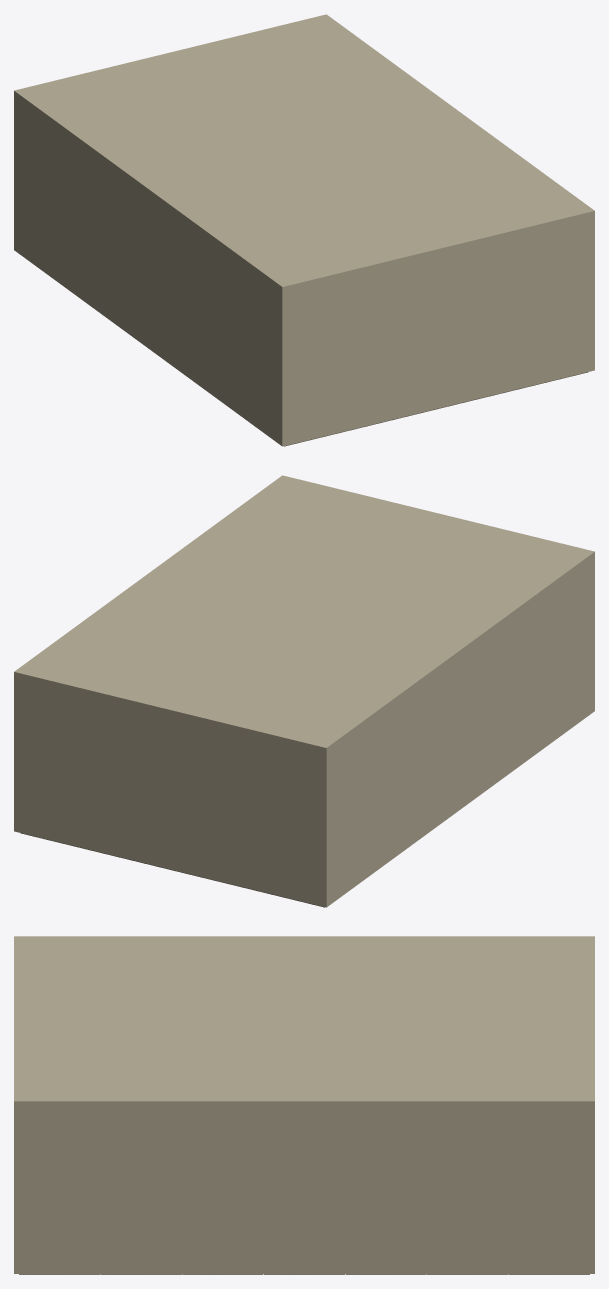
File: board-room.glb
3 renders of one model, top to bottom at view 1: azimuth 30°, elevation 25°; view 2: azimuth 150°, elevation 25°; view 3: azimuth 270°, elevation 25°, orthographic. The views are drawn at different scales.
Parts seen in each view (by area): view 1: Ceiling; view 2: Ceiling; view 3: Ceiling, Floor board.
Part boxes in pixels (bbox=[...]): Ceiling: bbox=[14, 14, 594, 446]; Ceiling: bbox=[14, 475, 594, 907]; Ceiling: bbox=[14, 936, 594, 1273]; Floor board: bbox=[19, 1274, 589, 1274].
Bounding box in the file's own units: 8.2 × 4.07 × 12.2.
8 materials, 2 textured.
